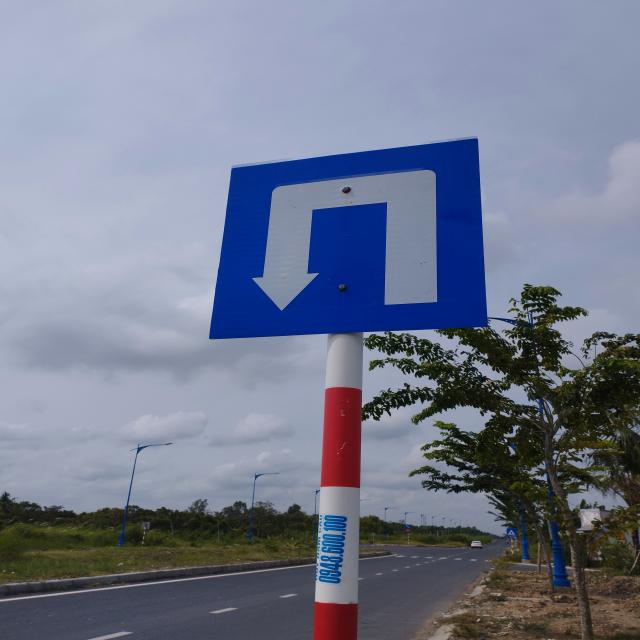Den_Giao_Thong: (208, 140, 491, 338)
